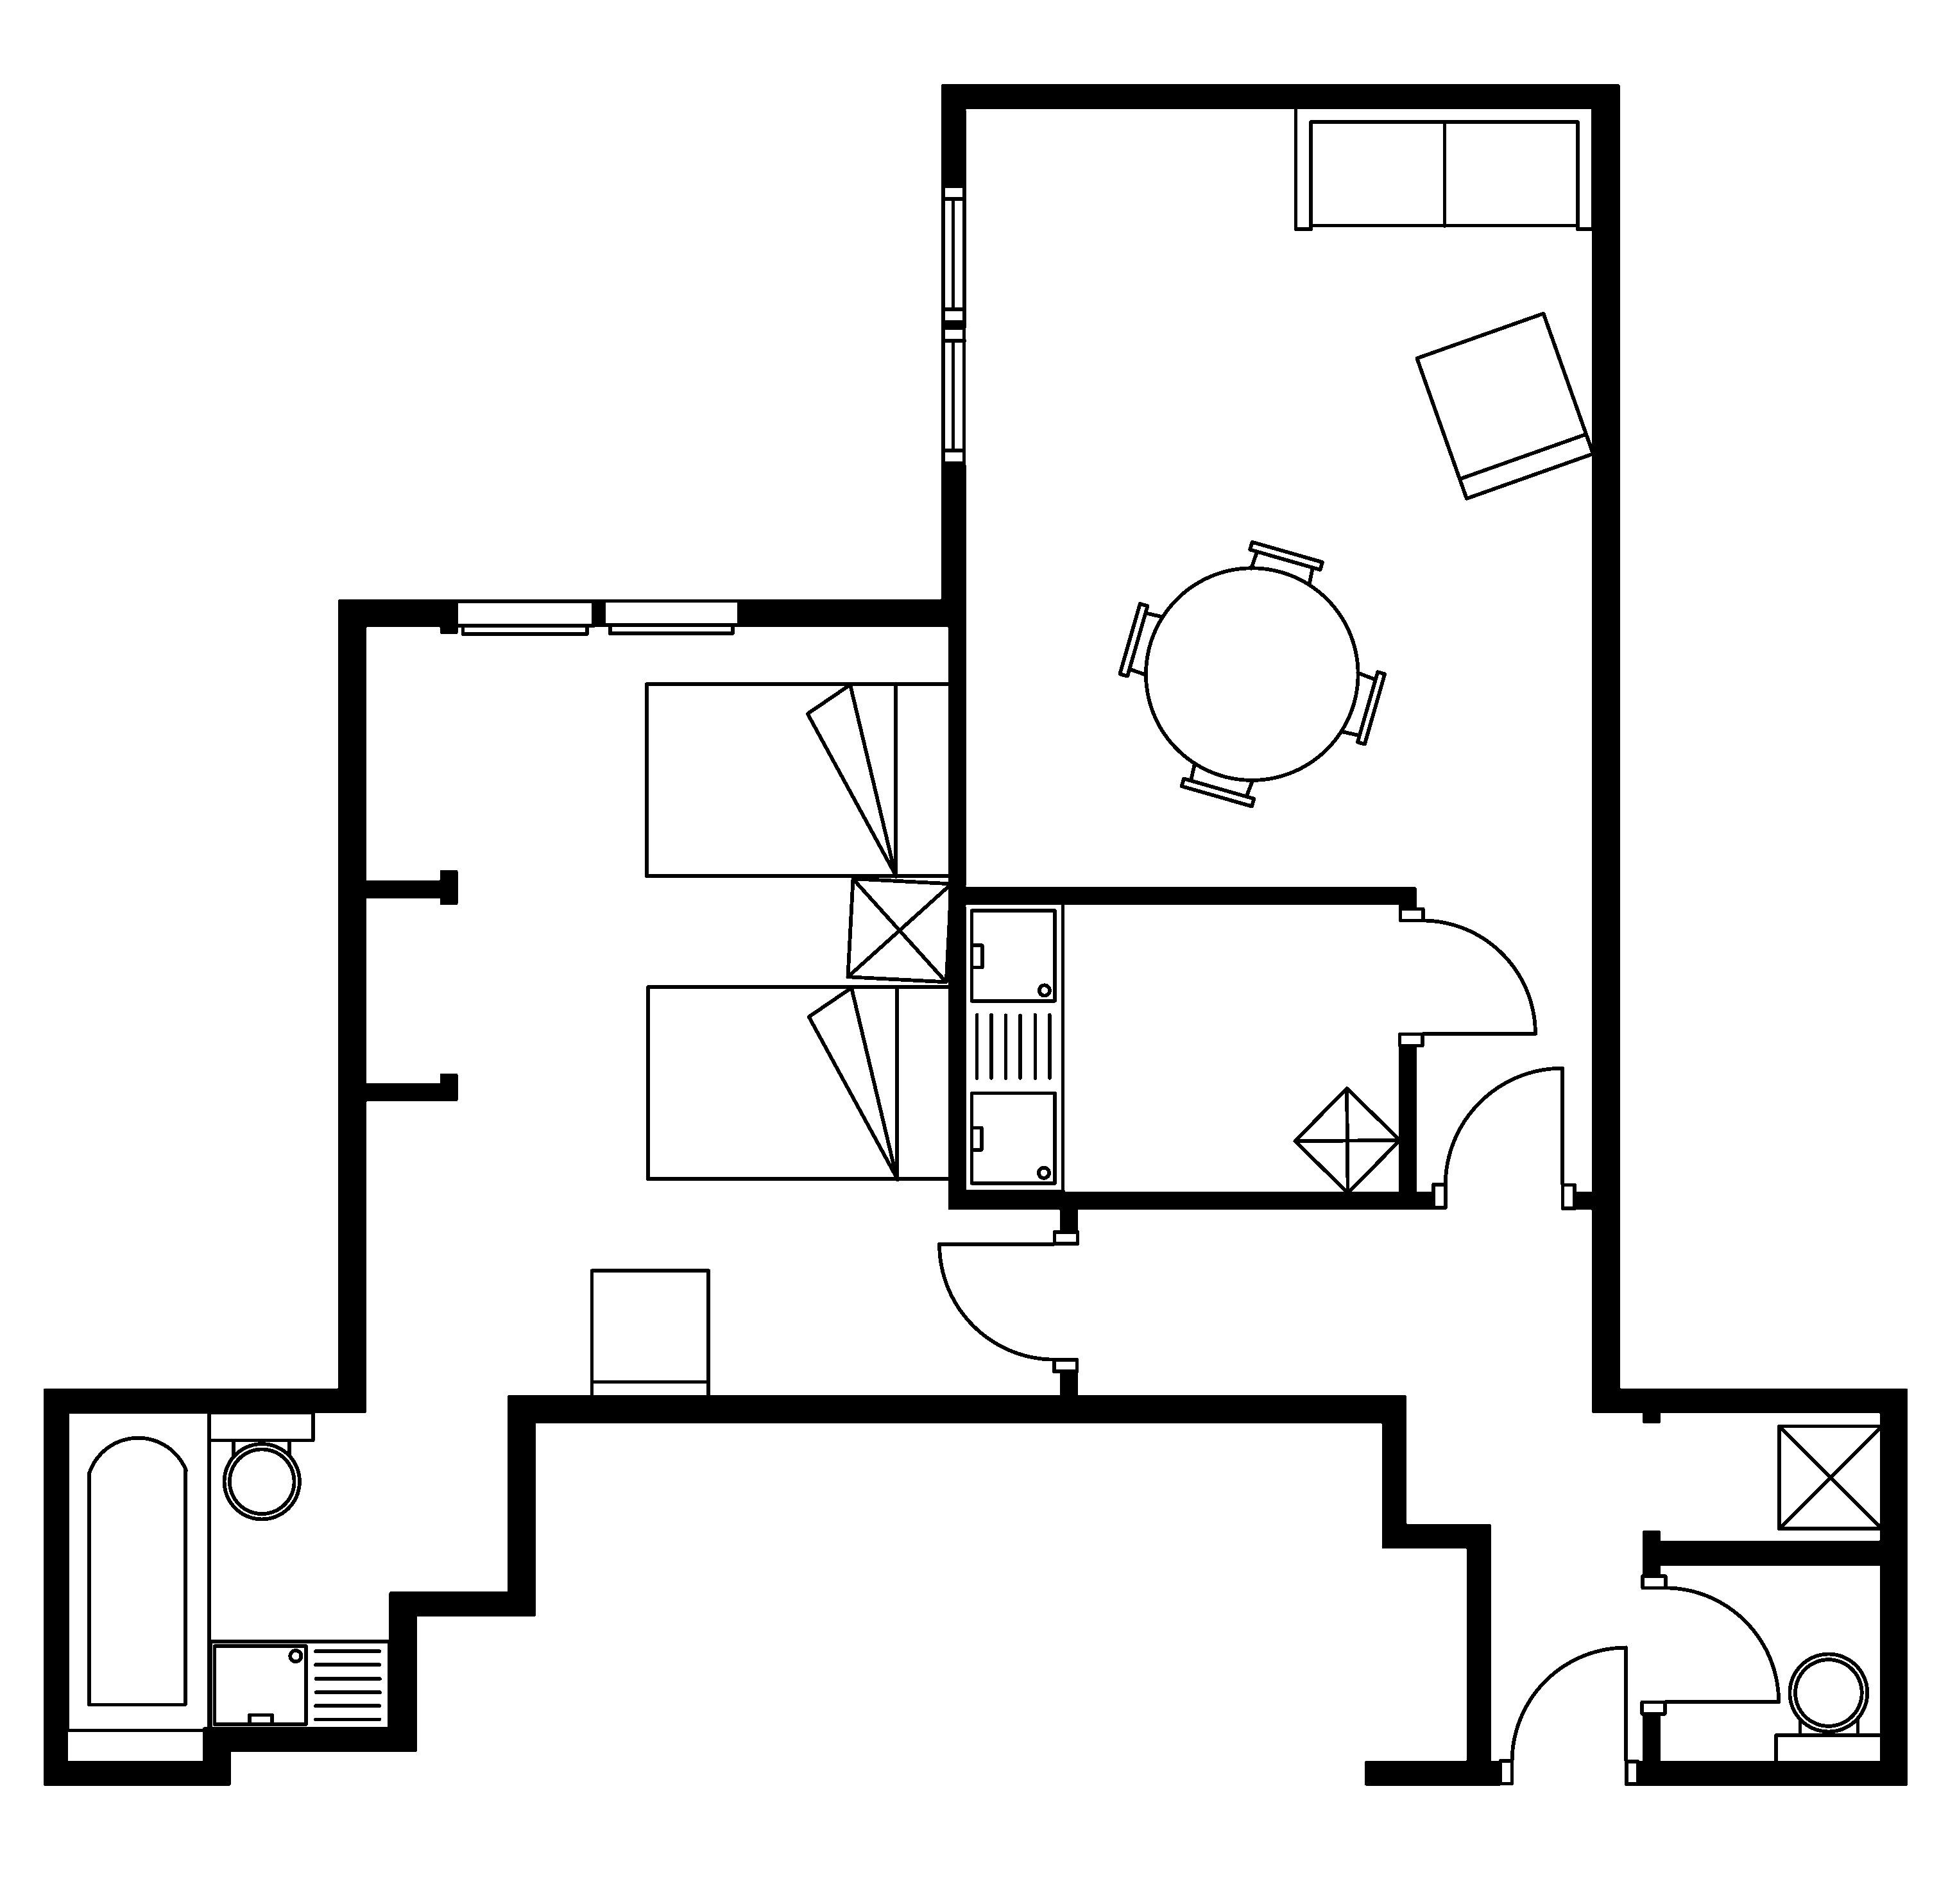bed: (644, 680, 952, 879), (645, 983, 954, 1182)
coffee_table: (1292, 1085, 1402, 1194), (1775, 1423, 1883, 1531), (844, 875, 952, 983)
large_sink: (1774, 1653, 1885, 1766), (206, 1411, 316, 1520)
large_sofa: (1292, 105, 1596, 230)
round_table: (1118, 539, 1386, 807)
sink: (208, 1639, 391, 1731)
small_sofa: (1414, 310, 1596, 500), (589, 1268, 710, 1402)
tub: (65, 1409, 211, 1733)
twin_sink: (961, 900, 1066, 1194)
